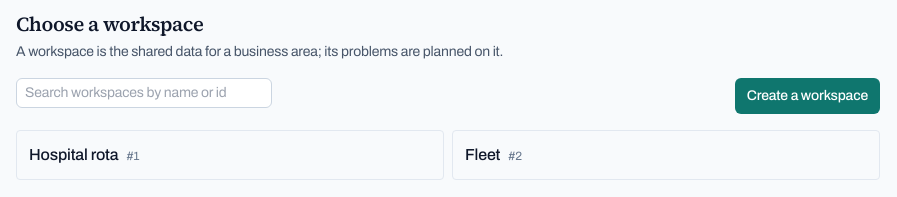
Test: choosing a domain (Epic UX, U-1) › searches on the server and says when nothing matches
Expected: the link "Fleet#2" is shown, x1=452 y1=130 x2=880 y2=180
Type "zzz" into the search field labelled "Search workspaces". click: (144, 93)
box: x1=16 y1=78 x2=272 y2=108
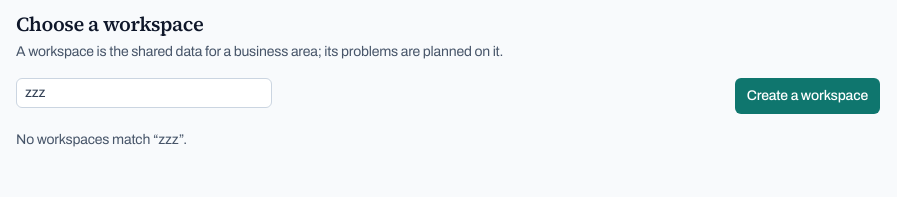
Result: the message shows "No workspaces match" at x1=16 y1=132 x2=187 y2=147
